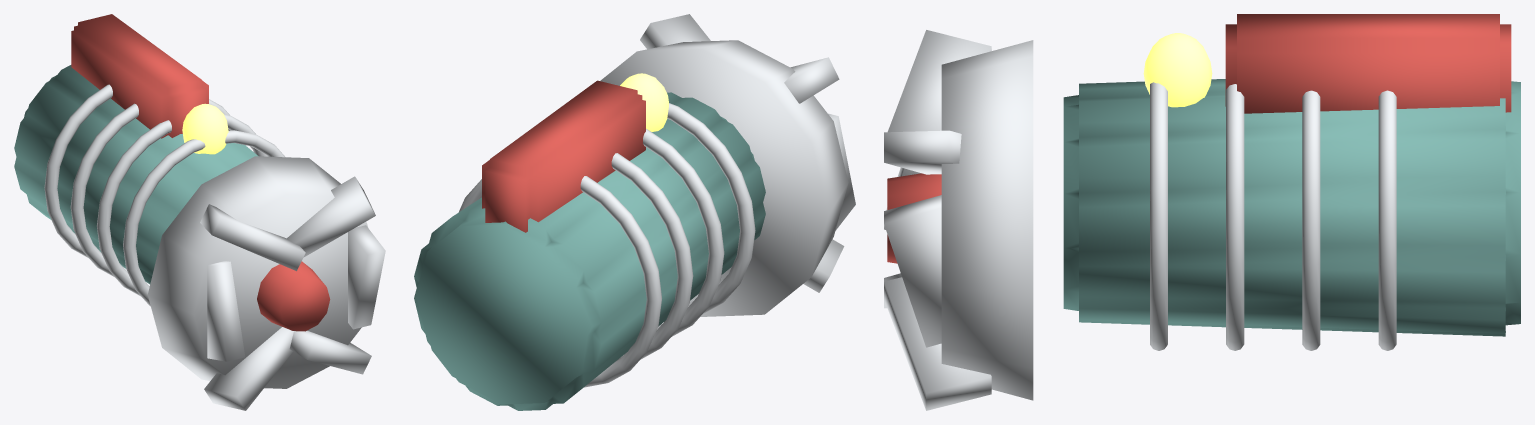
The model's file is peeler-rotary.glb.
3 renders of one model, left to right at view 1: azimuth 30°, elevation 25°; view 2: azimuth 150°, elevation 25°; view 3: azimuth 270°, elevation 25°, orthographic. The views are drawn at different scales.
Visible parts, largest first — view 1: Rotor_Drum, Motor_Housing; view 2: Motor_Housing, Rotor_Drum; view 3: Motor_Housing, Rotor_Drum.
Boxes of the visible parts, x1,y1,x2,y2 form: Rotor_Drum: (147,156,385,410); Motor_Housing: (14,14,285,306); Motor_Housing: (414,73,765,410); Rotor_Drum: (600,14,855,316); Motor_Housing: (1063,14,1520,350); Rotor_Drum: (884,30,1033,410).
Size of the model in its own units: 0.19 by 0.2075 by 0.3343.
